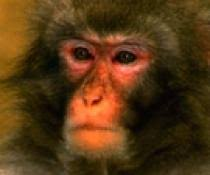monkey: (12, 0, 210, 148)
